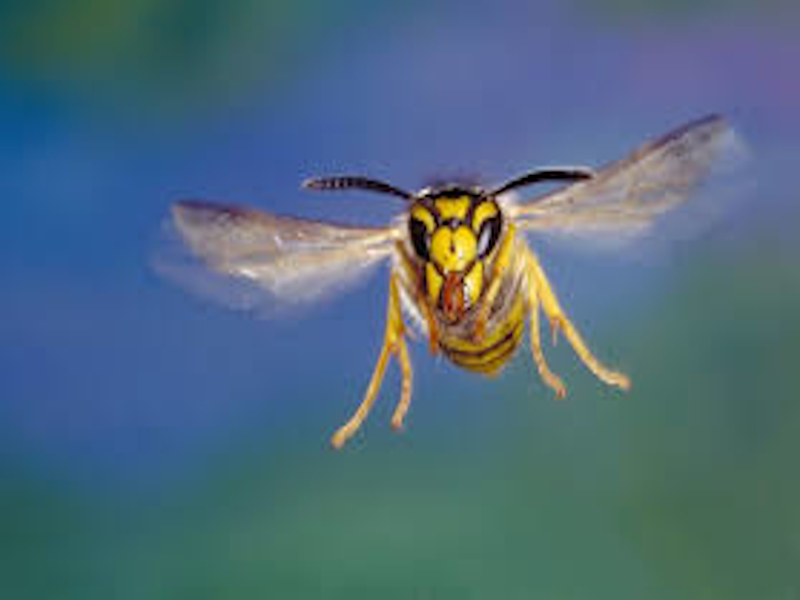chax: (160, 100, 788, 442)
